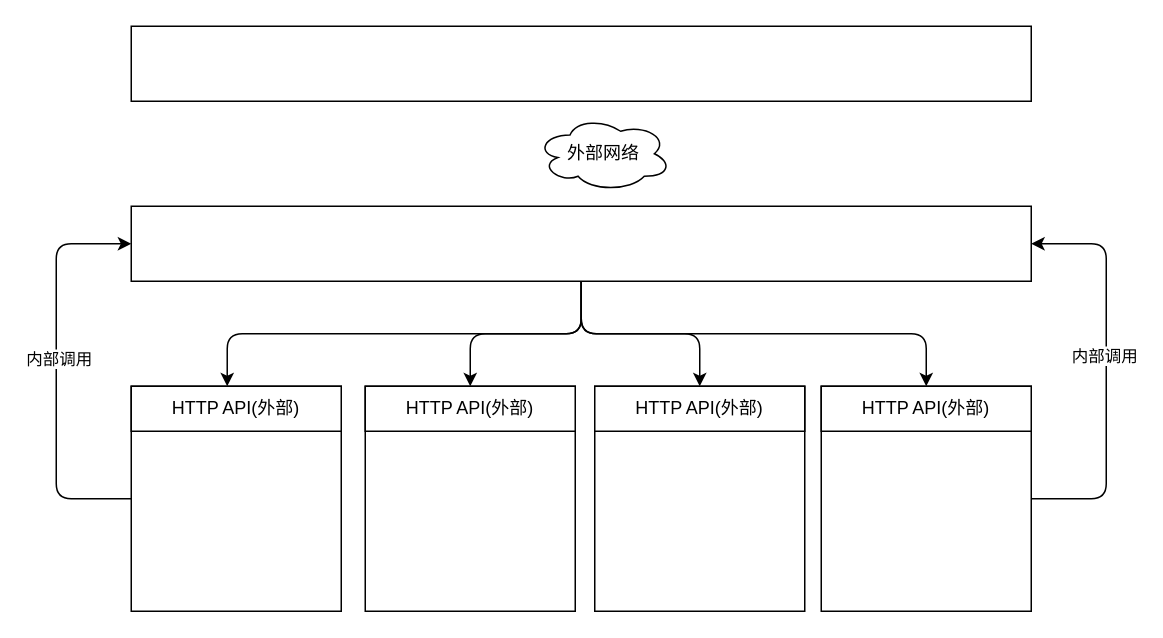
Image size: 1163x638. Some labels were removed from this diagram. The shapes that lost their labels are listed below. From the top down, each one's centre as x and y in pixels, then its label:
At [580,63]: "浏览器".
At [580,243]: "API Gateway (Apisix/Traefik/Nginx)".
